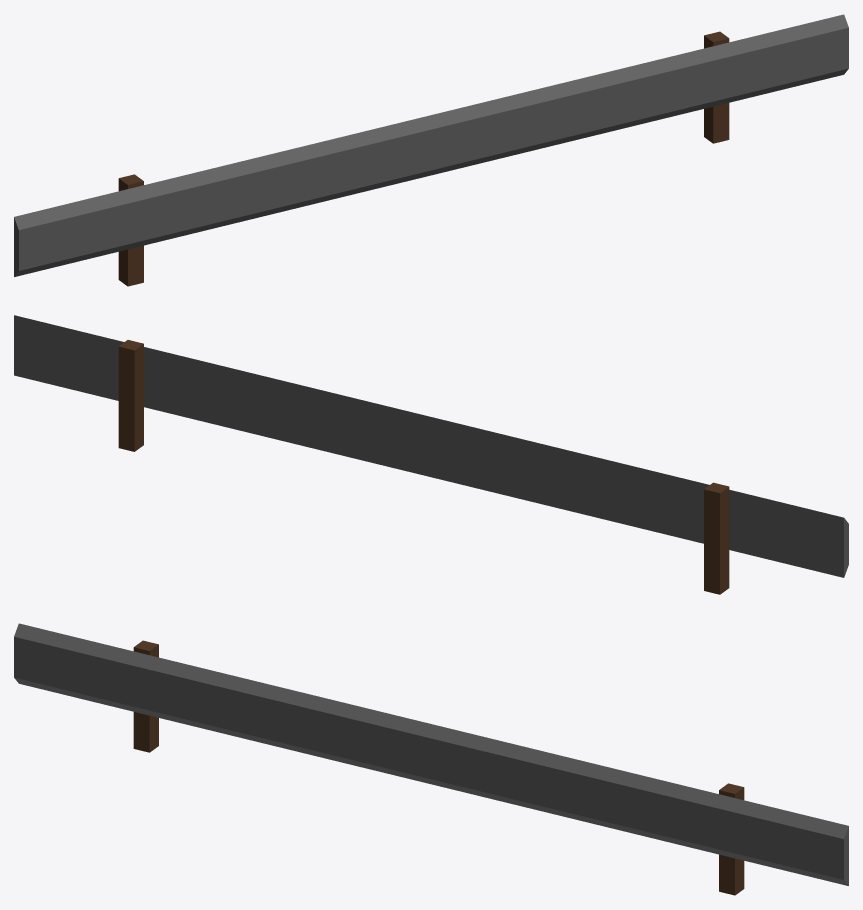
File: Metal_Traffic_Bumper.glb
The picture shows the model from 3 angles, top to bottom: view 1: azimuth 30°, elevation 25°; view 2: azimuth 150°, elevation 25°; view 3: azimuth 330°, elevation 25°; orthographic projection.
Visible parts, largest first — view 1: Metal_Traffic_Bumper; view 2: Metal_Traffic_Bumper; view 3: Metal_Traffic_Bumper.
Part boxes in pixels (x1=…): Metal_Traffic_Bumper: x1=14, y1=14, x2=848, y2=286; Metal_Traffic_Bumper: x1=14, y1=315, x2=848, y2=594; Metal_Traffic_Bumper: x1=14, y1=623, x2=848, y2=895.
Size of what is drawn, in the model's own units: 6.61 by 0.7725 by 0.2016.
1 material, 1 textured.
